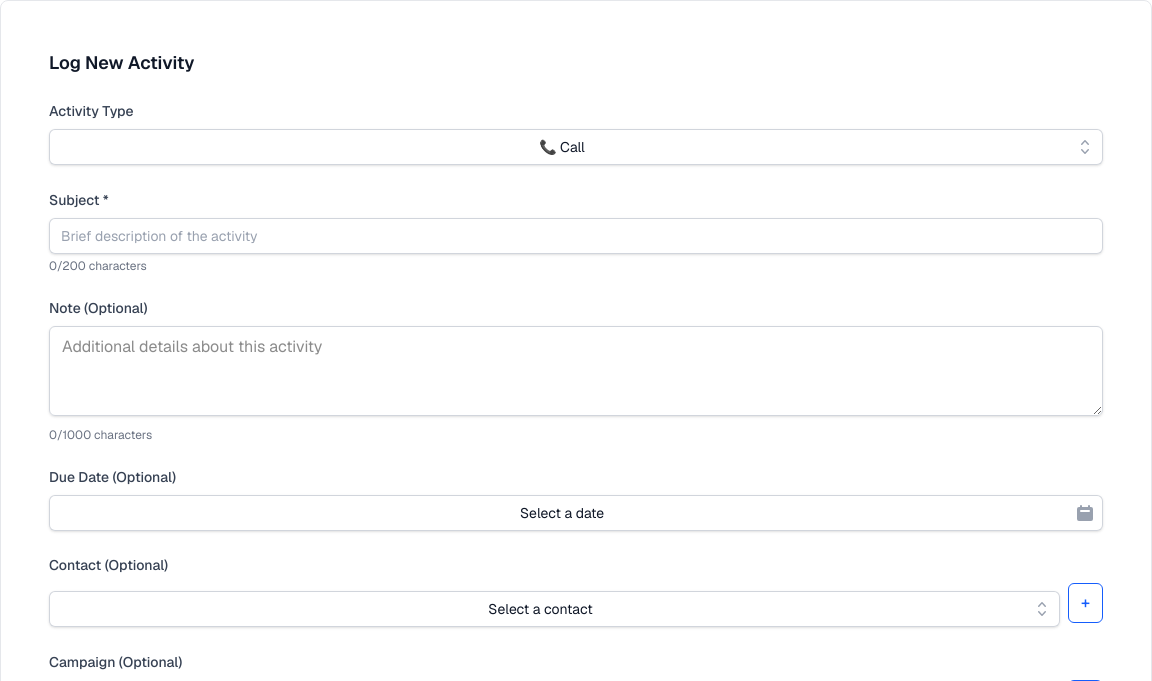
Test: ActivityForm › should display activity type options
This screenshot has width=1152, height=681.
# Open activity type dropdown to see options
Click the button "📞 Call" at (576, 147), box [49, 129, 1103, 165]
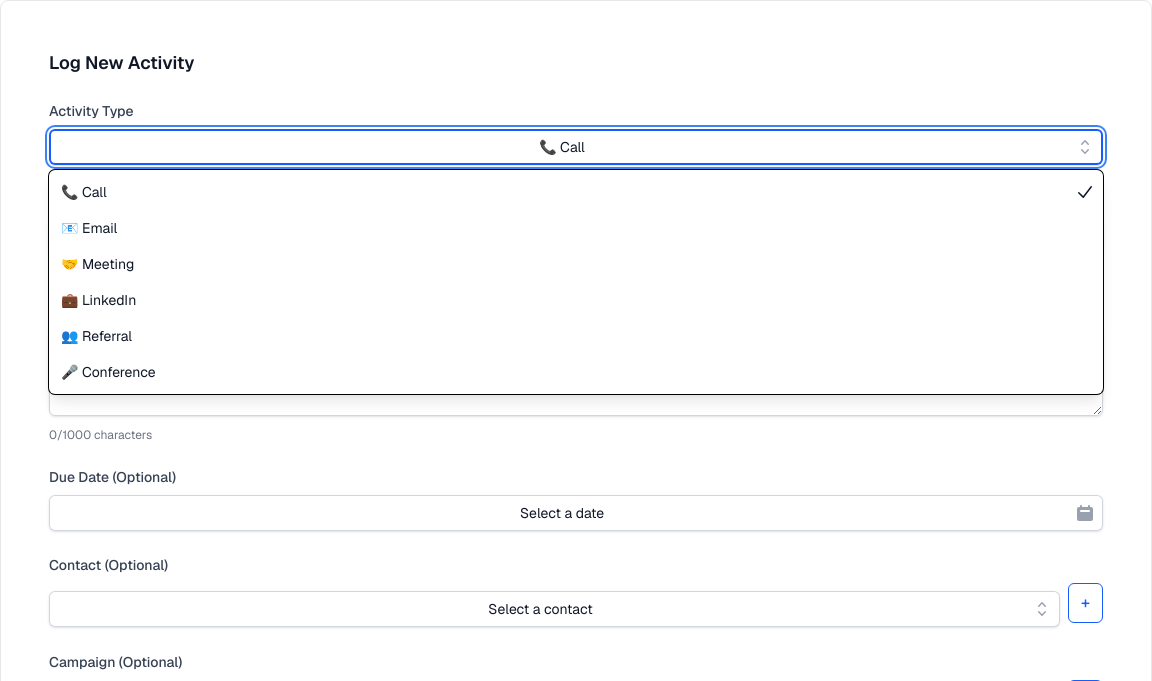
Result: the list is shown at [49, 170, 1103, 394]
